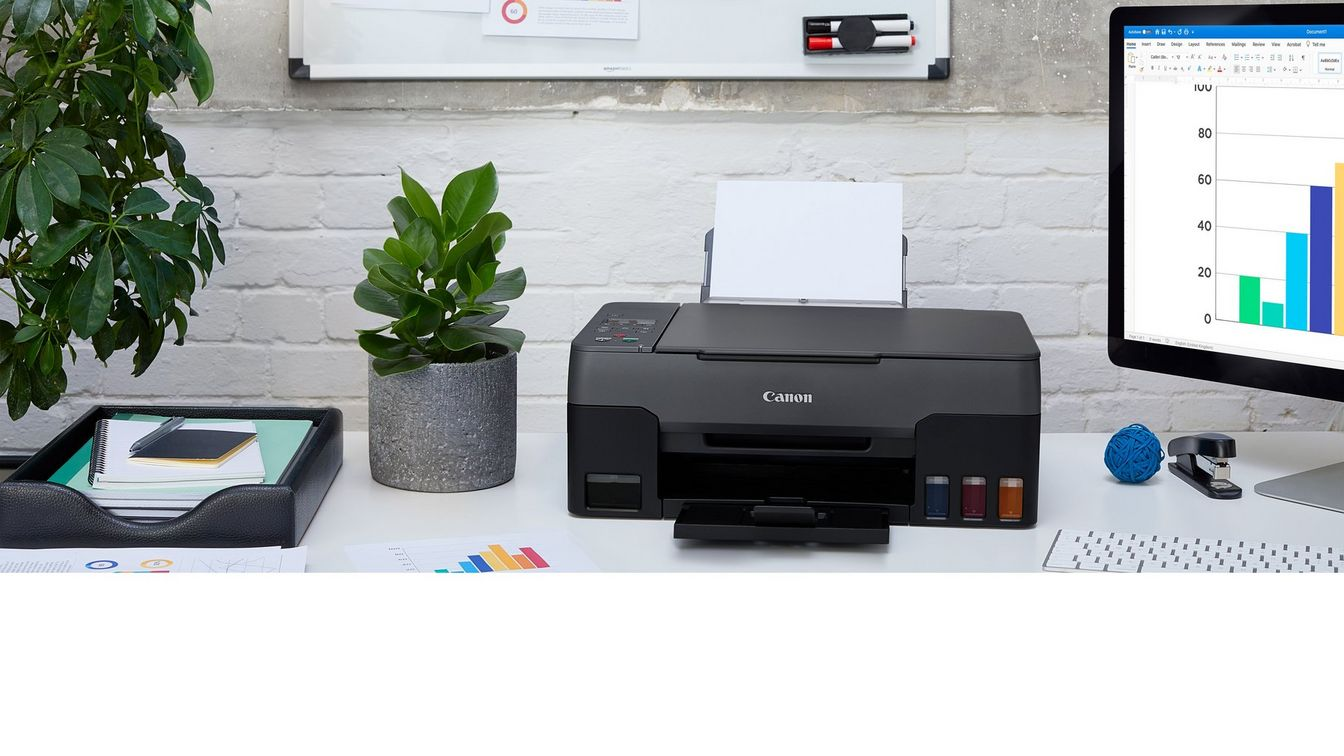printer: (564, 171, 1050, 550)
